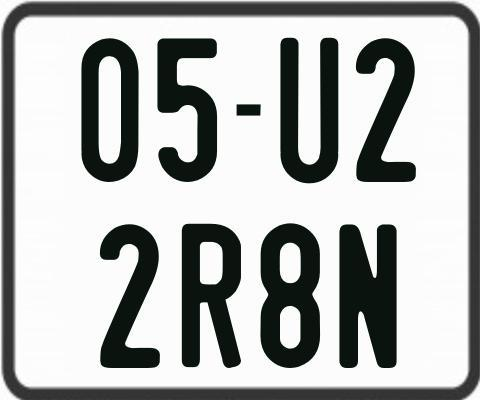0: (79, 37, 140, 187)
2: (354, 36, 420, 181), (100, 223, 162, 369)
5: (157, 37, 222, 186)
8: (260, 221, 324, 372)
N: (336, 221, 398, 366)
R: (182, 223, 247, 368)
U: (280, 38, 339, 186)
